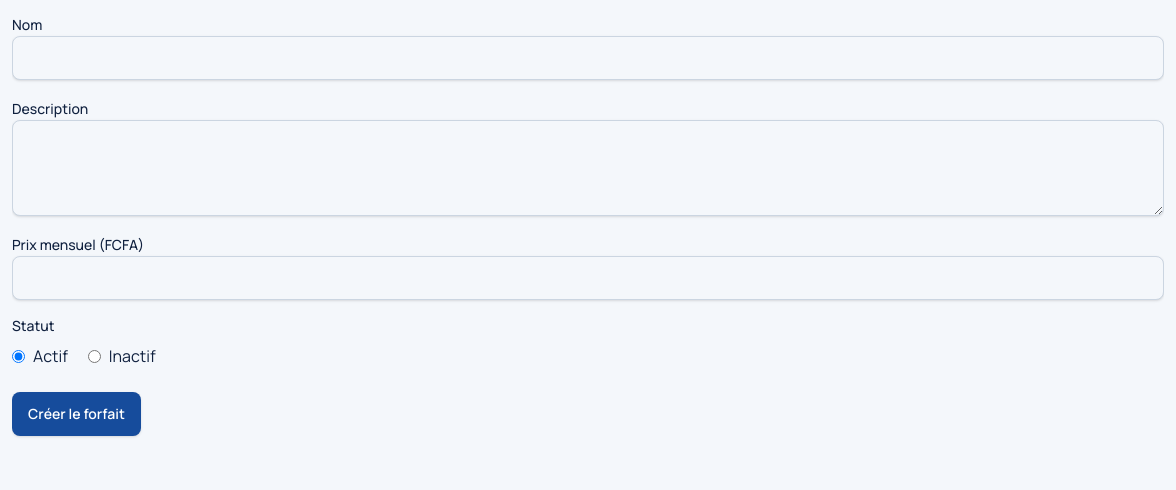
it: PackageForm › présente une erreur technique générique sans détail interne
Click the button "Créer le forfait" at (76, 414), box x1=12 y1=392 x2=141 y2=436
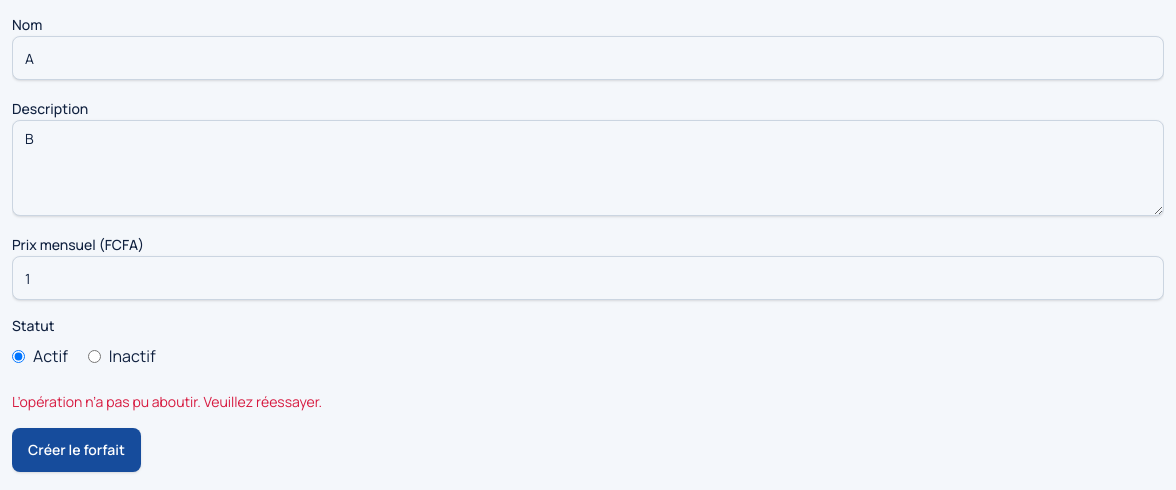
Expected: the message shows "Veuillez réessayer", x1=12 y1=392 x2=322 y2=411
